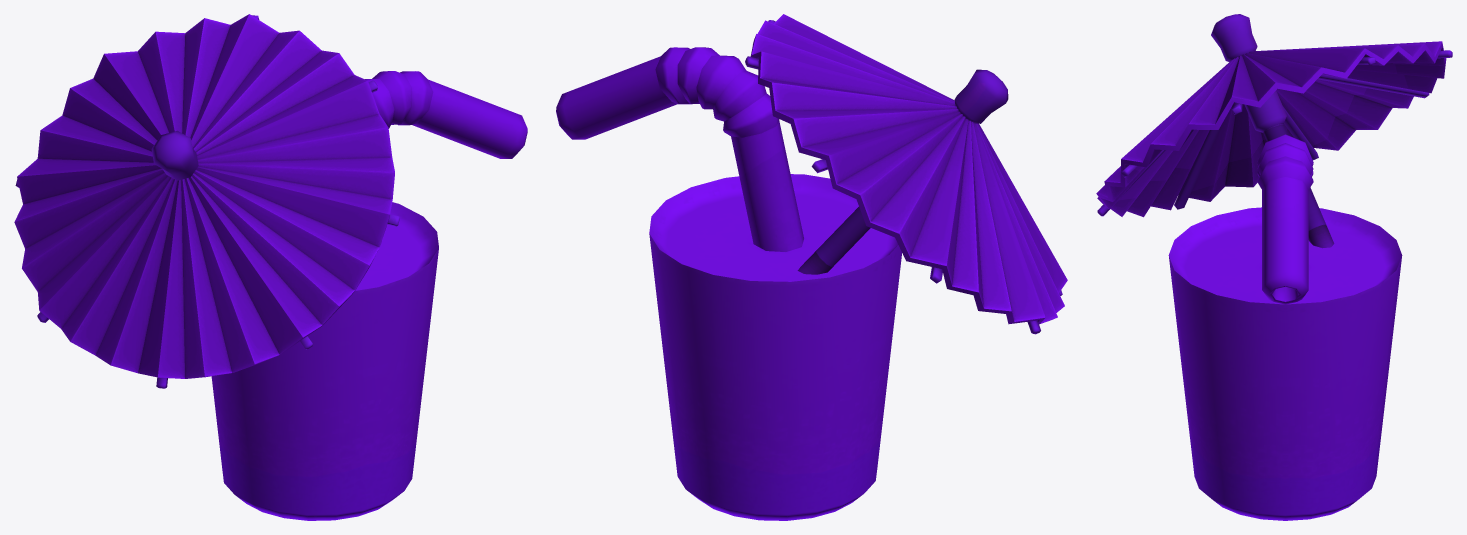
The model's file is Web_Smoothie_Mix_Bramble.obj.
3 renders of one model, left to right at view 1: azimuth 30°, elevation 25°; view 2: azimuth 150°, elevation 25°; view 3: azimuth 270°, elevation 25°, orthographic. The views are drawn at different scales.
Parts seen in each view (by area): view 1: m_recipe_megaSmoothie_01(Clone)_0; view 2: m_recipe_megaSmoothie_01(Clone)_0; view 3: m_recipe_megaSmoothie_01(Clone)_0.
Part boxes in pixels (<box>): m_recipe_megaSmoothie_01(Clone)_0: <box>14,14,527,520</box>; m_recipe_megaSmoothie_01(Clone)_0: <box>556,14,1067,520</box>; m_recipe_megaSmoothie_01(Clone)_0: <box>1096,14,1452,520</box>.
Bounding box in the file's own units: 1.11 × 1.01 × 0.7635.
1 material, 1 textured.
